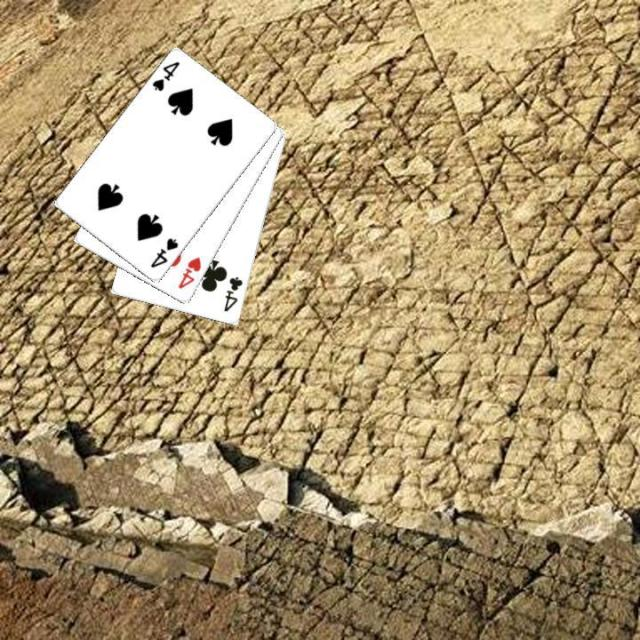4C: (220, 273, 244, 314)
4H: (174, 254, 203, 292)
4S: (148, 58, 182, 93), (147, 235, 180, 270)
